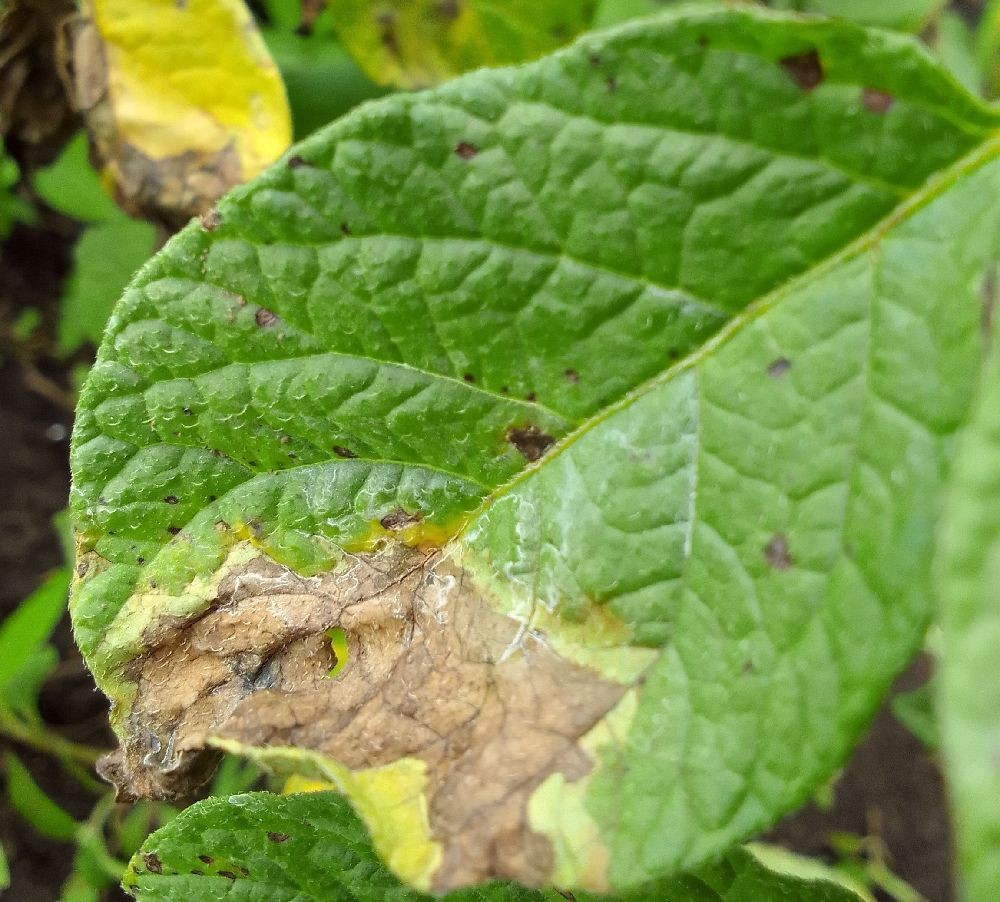late_blight: (0, 491, 647, 901), (721, 619, 992, 902)
